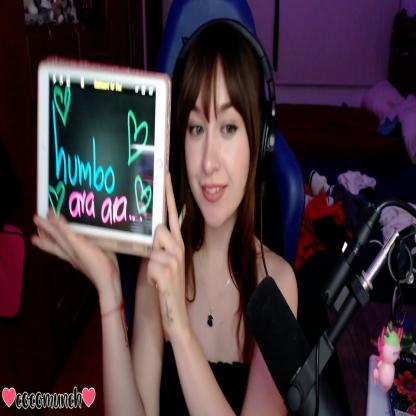streamer: (30, 17, 298, 416)
